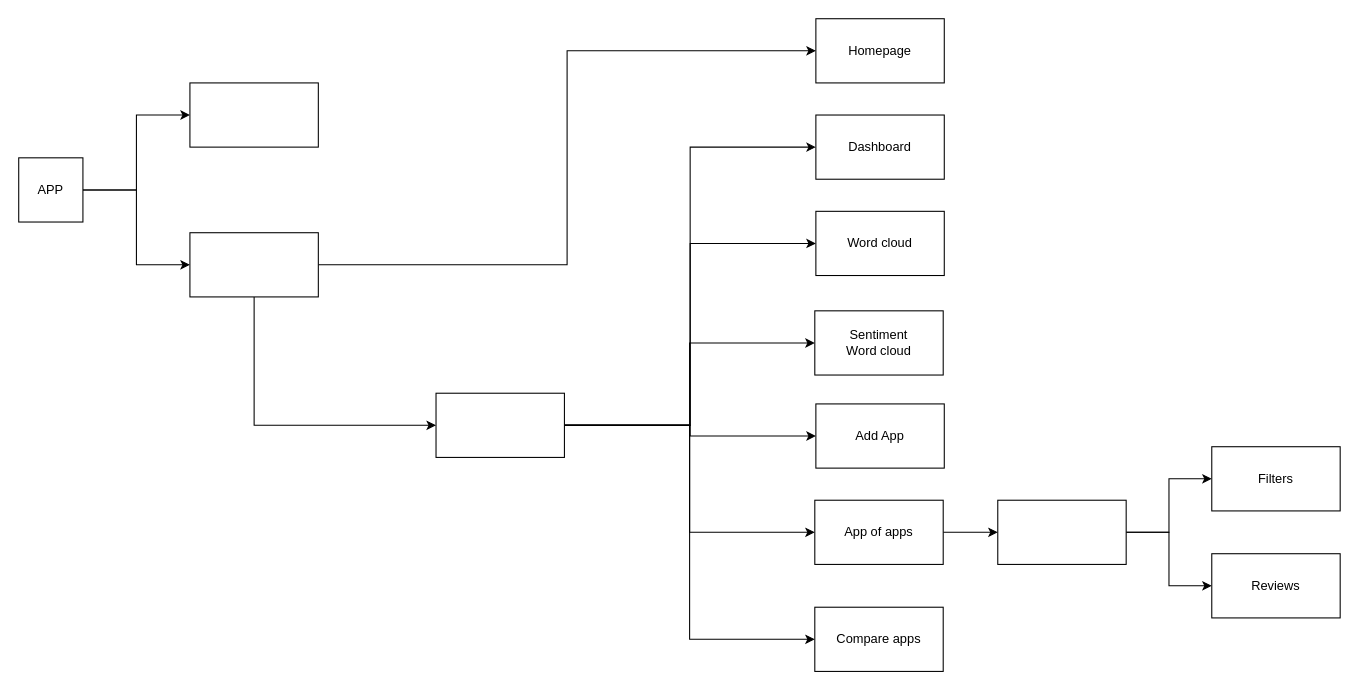
This 1359x690 diagram has some shape labels left out. Each missing label, with the centre of its shape:
App Dashboard: point 1061,531
Loader (if loading): point 499,424
Right container: point 253,264
Sidebar: point 253,114
